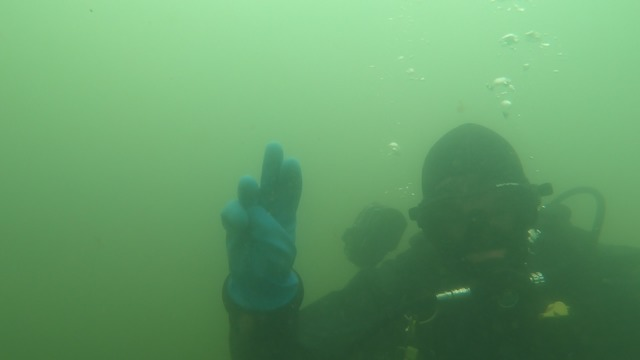Diver: (199, 118, 637, 355)
Hand: (209, 139, 319, 319)
Head: (399, 116, 559, 293)
